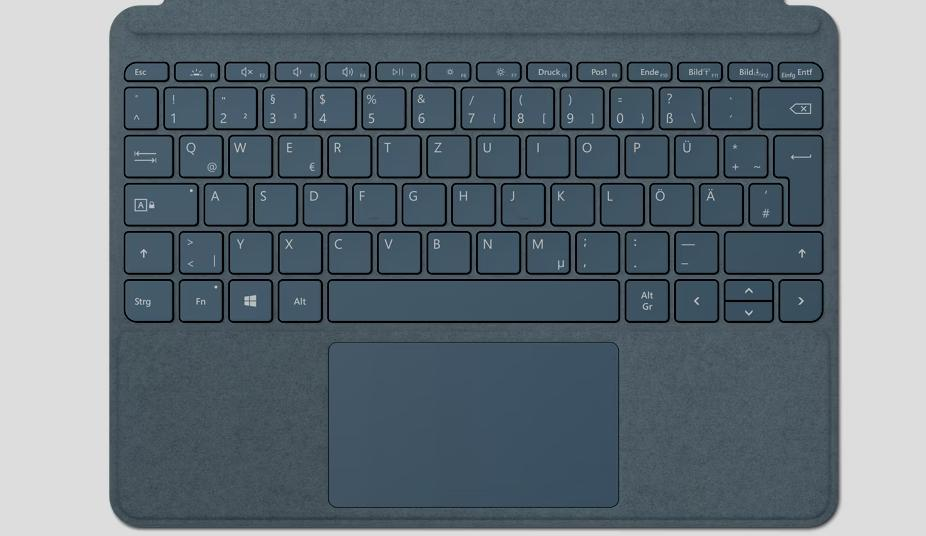0: (606, 82, 651, 127)
1: (161, 82, 205, 127)
2: (209, 83, 255, 127)
3: (259, 82, 304, 127)
4: (308, 82, 353, 126)
5: (357, 83, 403, 127)
6: (408, 83, 452, 127)
7: (458, 83, 502, 127)
8: (507, 83, 551, 127)
9: (556, 83, 601, 127)
a: (201, 179, 245, 224)
accent: (706, 83, 750, 127)
ae: (696, 179, 741, 224)
alt-left: (275, 276, 321, 321)
altgr-right: (622, 275, 668, 321)
b: (423, 227, 469, 272)
c: (324, 227, 370, 272)
caret: (121, 82, 155, 126)
comma: (572, 227, 617, 272)
d: (300, 179, 344, 224)
del: (755, 83, 823, 128)
e: (274, 130, 320, 176)
enter: (771, 130, 822, 224)
f: (350, 179, 394, 224)
g: (399, 179, 443, 224)
h: (448, 179, 493, 224)
hash: (746, 179, 781, 224)
i: (522, 130, 567, 175)
j: (498, 179, 542, 223)
k: (547, 179, 592, 224)
keyboard: (113, 39, 835, 334)
l: (597, 179, 642, 224)
less: (175, 227, 221, 272)
m: (521, 227, 567, 272)
minus: (671, 227, 716, 271)
n: (472, 227, 517, 272)
o: (571, 130, 616, 176)
oe: (646, 179, 691, 224)
p: (621, 130, 666, 176)
plus: (720, 130, 766, 175)
point: (622, 227, 667, 271)
q: (175, 131, 221, 176)
r: (324, 131, 369, 176)
s: (250, 179, 295, 224)
shift-left: (120, 227, 171, 271)
shift-lock: (119, 179, 197, 224)
shift-right: (722, 226, 822, 272)
space: (323, 275, 619, 322)
ss: (655, 83, 700, 127)
strg-left: (120, 275, 172, 320)
t: (374, 130, 418, 175)
tab: (120, 130, 171, 176)
u: (473, 131, 517, 176)
ue: (671, 131, 716, 176)
v: (374, 227, 419, 272)
w: (225, 130, 269, 176)
x: (275, 227, 320, 272)
y: (225, 227, 271, 272)
z: (424, 130, 468, 176)
